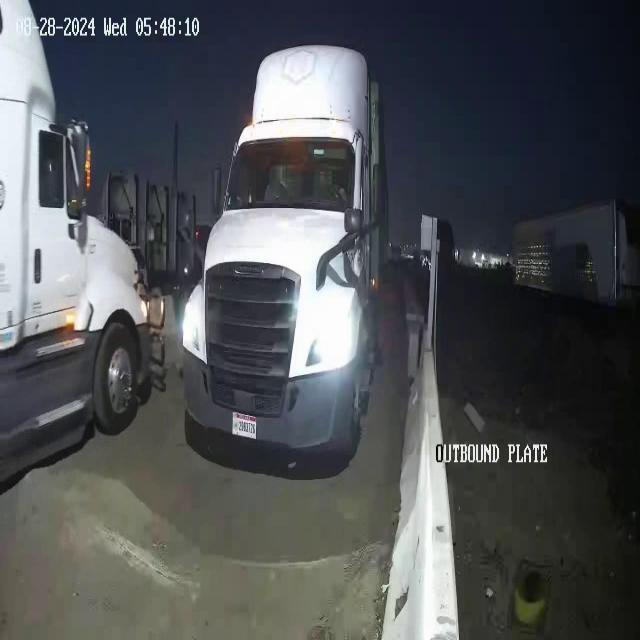TRUCK_IN: (0, 0, 162, 470)
TRUCK_OUT: (177, 39, 387, 464)
